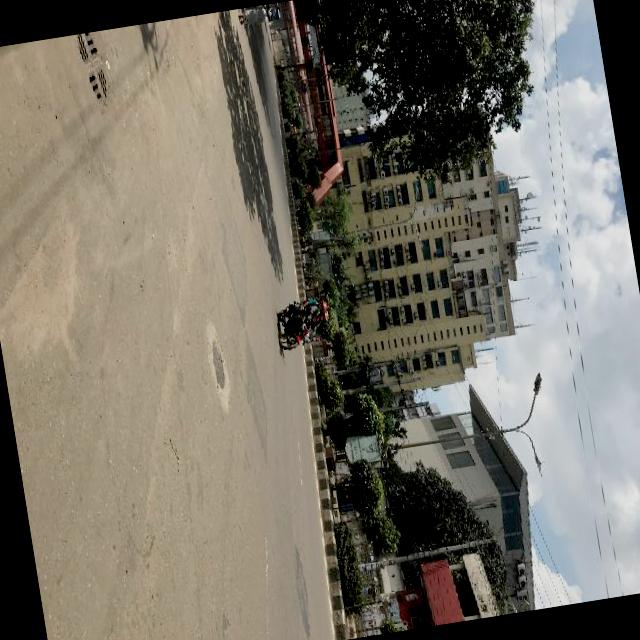motorcycle: (272, 296, 334, 354)
truck: (267, 9, 282, 23)
